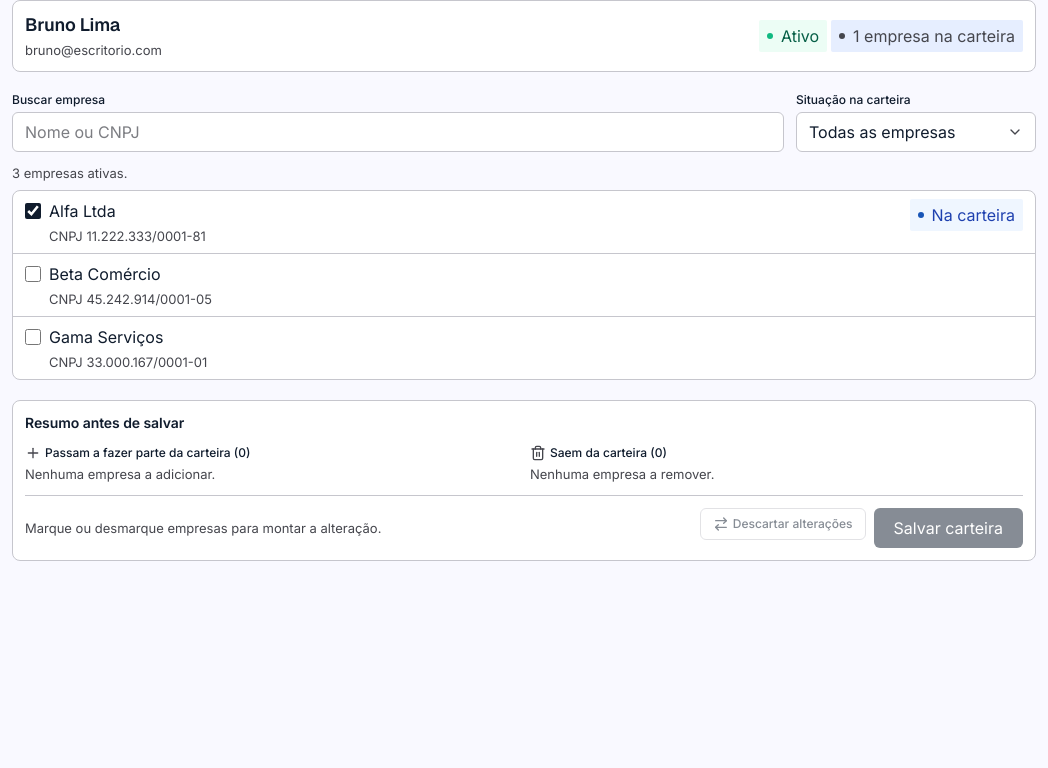
it: GestaoDaCarteira › marcar empresa monta o resumo e salvar envia só a adição, com a revisão que a tela viu
The width and height of the screenshot is (1048, 768).
Click the checkbox labelled "Beta Comércio". click: coordinates (33, 274)
box: [25,266,41,282]
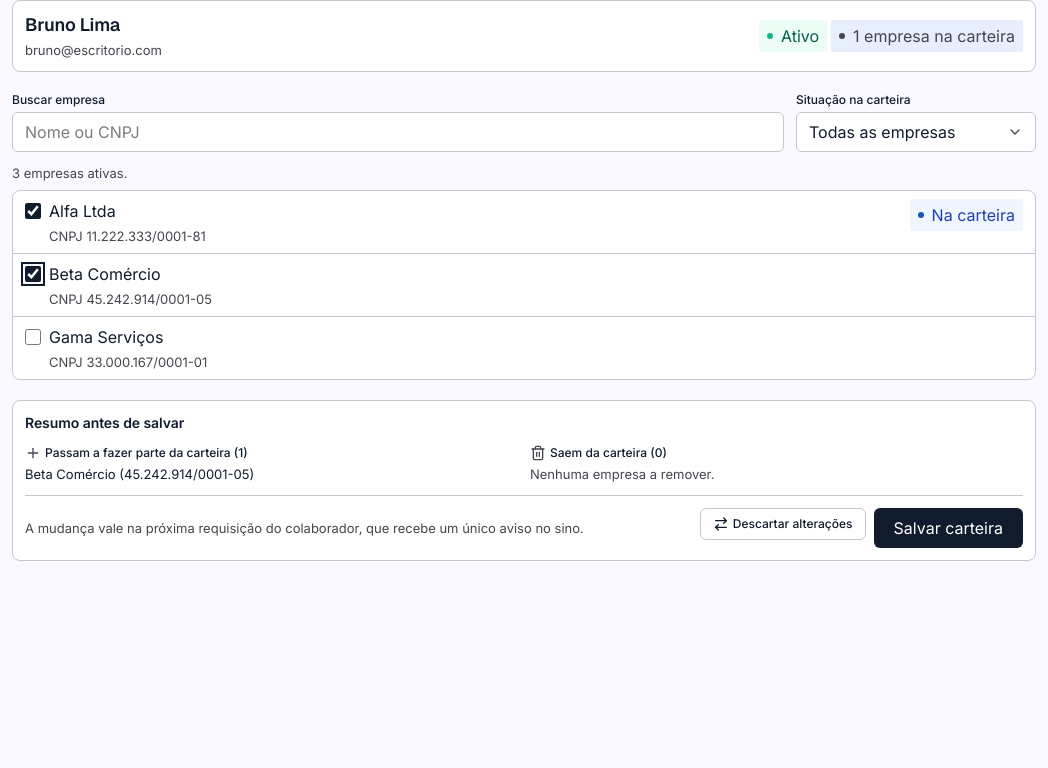
expect the text "Nenhuma empresa a remover." is shown: met, box [530,466,714,482]
expect the list item "Beta Comércio (45.242.914/0001-05)" is shown: met, box [25,466,254,482]
Click the button "Salvar carteira". click: coordinates (948, 528)
box: [874,508,1023,548]
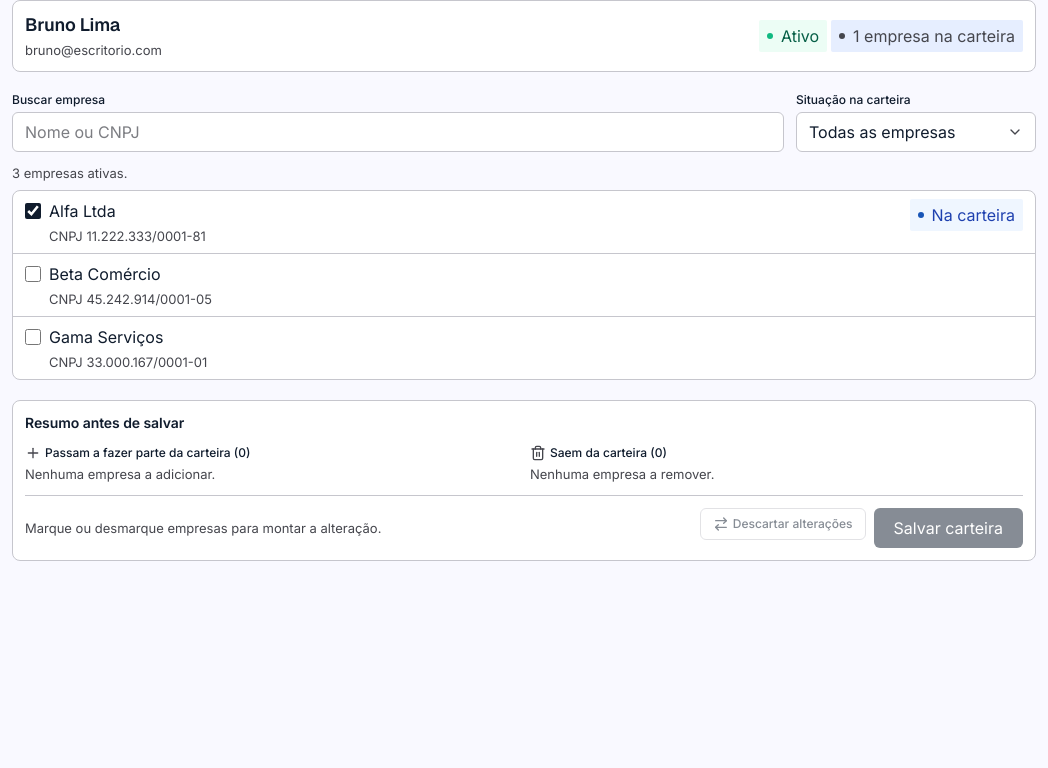
expect the text "Nenhuma empresa a adicionar." is shown: met, box [25,466,215,482]
